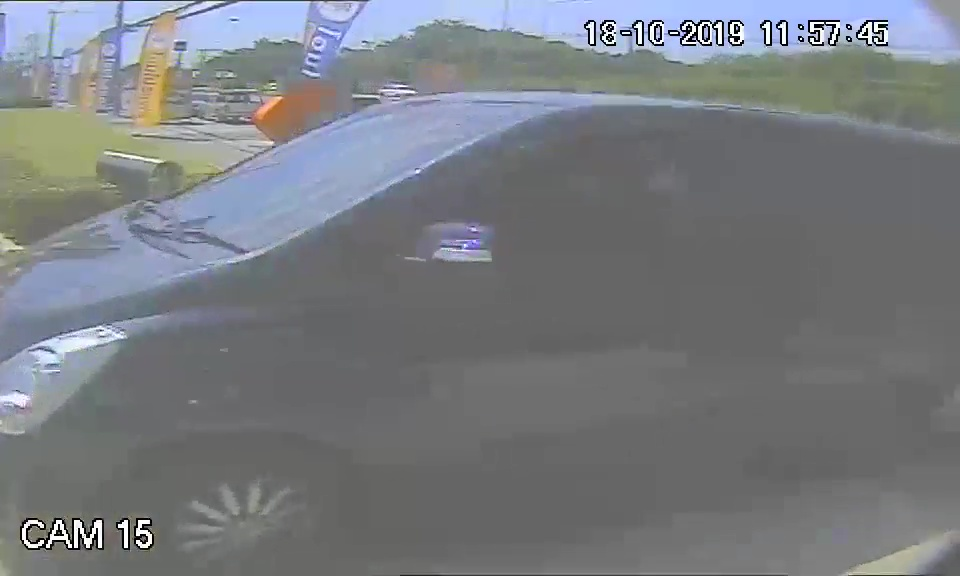van: (7, 73, 893, 550)
